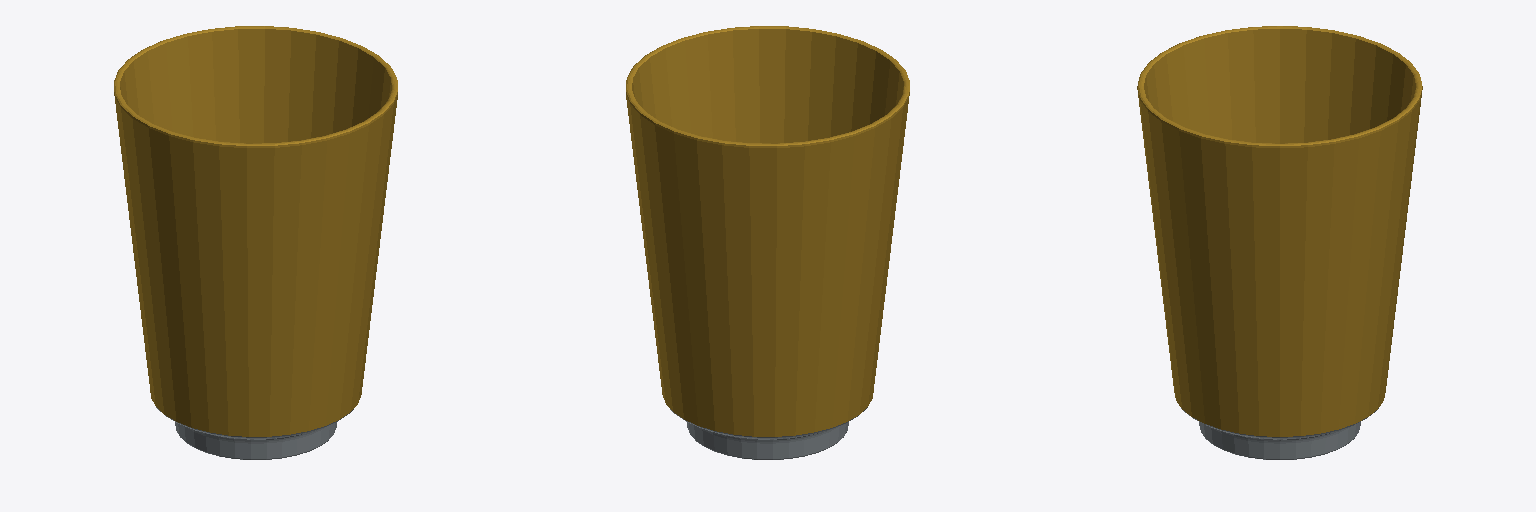
File: vase1.obj
The picture shows the model from 3 angles: view 1: azimuth 30°, elevation 25°; view 2: azimuth 150°, elevation 25°; view 3: azimuth 270°, elevation 25°; orthographic projection.
Parts seen in each view (by area): view 1: Mesh_vase_Mesh.002; view 2: Mesh_vase_Mesh.002; view 3: Mesh_vase_Mesh.002.
Boxes of the visible parts, x1,y1,x2,y2 form: Mesh_vase_Mesh.002: [114, 26, 397, 459]; Mesh_vase_Mesh.002: [626, 26, 909, 459]; Mesh_vase_Mesh.002: [1137, 26, 1422, 459].
Size of the model in its own units: 14.41 by 19.02 by 14.41.